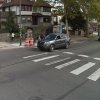crosswalk: (19, 51, 100, 82)
